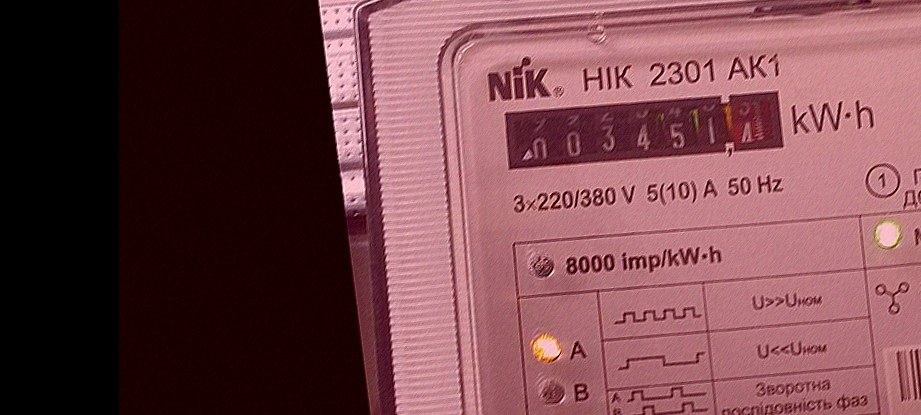0: (562, 128, 585, 158), (528, 132, 551, 161)
1: (702, 113, 721, 146)
3: (597, 121, 619, 154)
4: (631, 120, 655, 154), (734, 117, 758, 148)
5: (667, 118, 688, 151)
screen: (495, 73, 792, 190)
